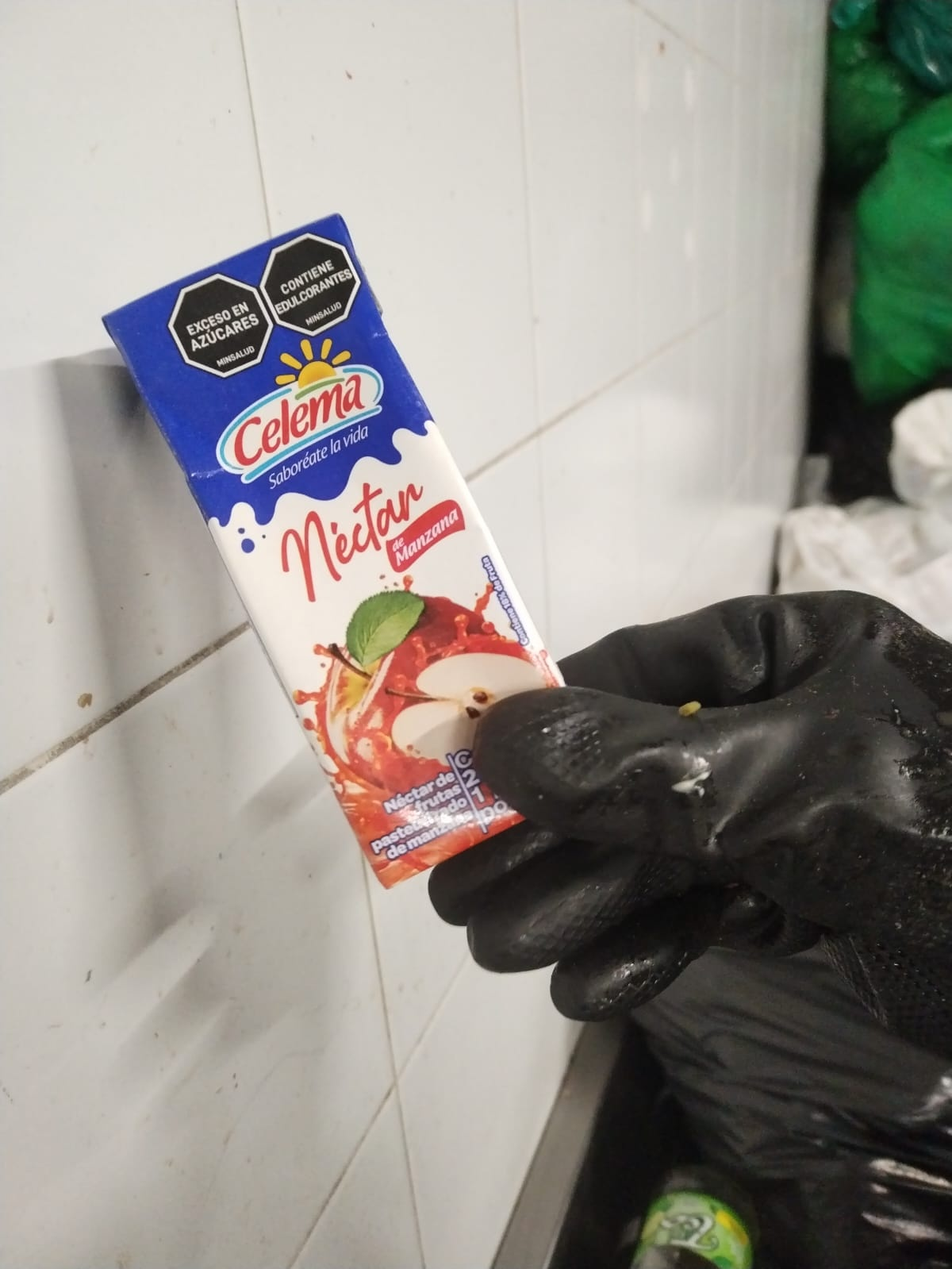Carton: (101, 218, 586, 887)
